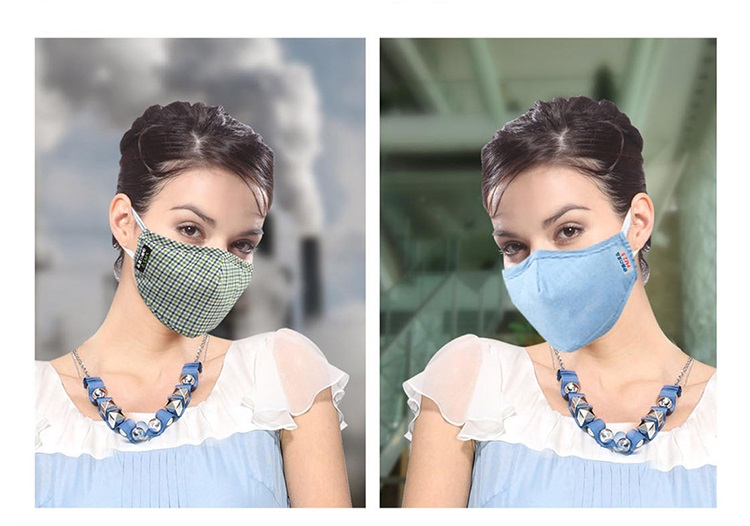face_mask: (492, 168, 634, 352), (132, 170, 260, 341)
